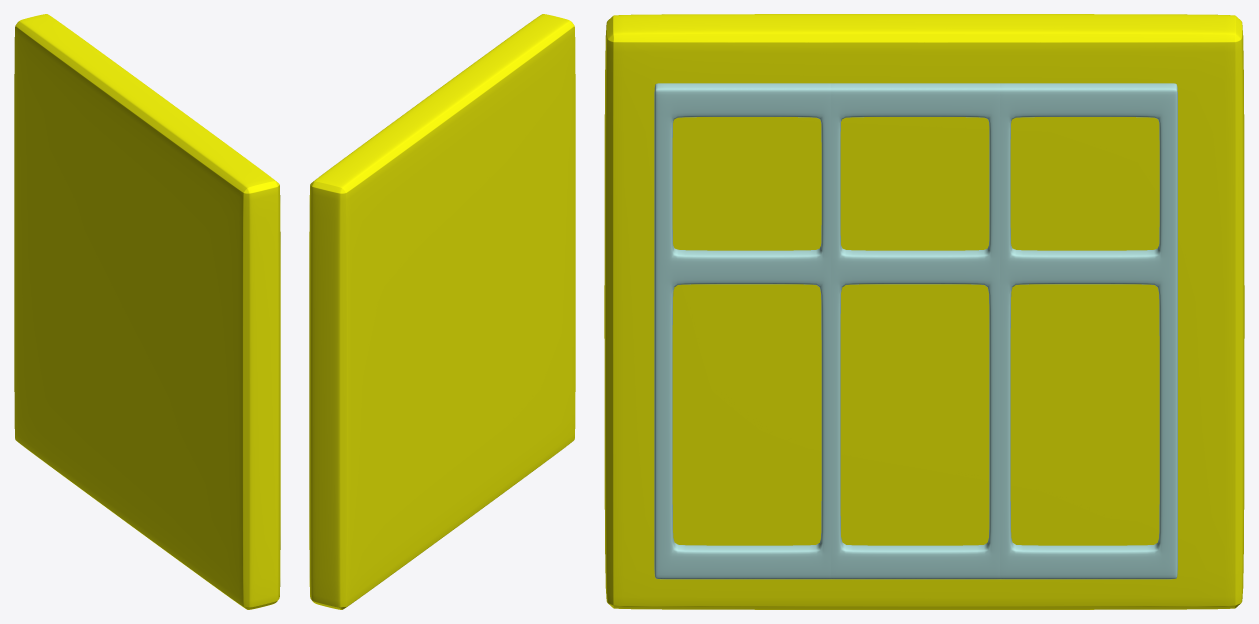
The picture shows the model from 3 angles, left to right: view 1: azimuth 30°, elevation 25°; view 2: azimuth 150°, elevation 25°; view 3: azimuth 270°, elevation 25°; orthographic projection. The views are drawn at different scales.
Parts seen in each view (by area): view 1: polySurface1275; view 2: polySurface1275; view 3: polySurface1275.
Part boxes in pixels (x1,y1,x2,y2): polySurface1275: (14, 14, 280, 609); polySurface1275: (309, 14, 575, 609); polySurface1275: (604, 14, 1244, 609).
Size of the model in its own units: 0.1218 by 0.9995 by 0.9995.
